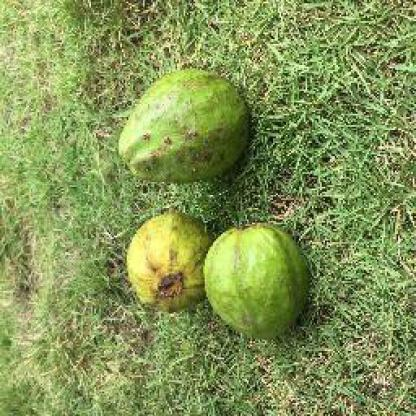guava: (115, 66, 252, 184), (206, 216, 310, 336), (123, 212, 213, 314)
